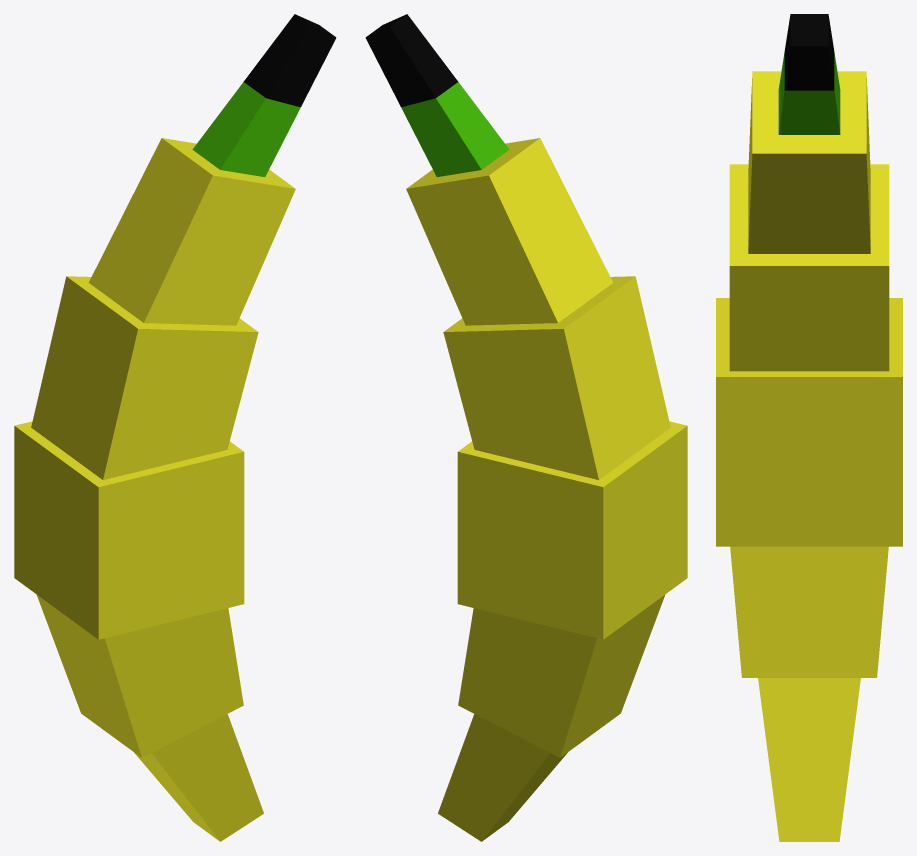
The model's file is Banana.fbx.
3 renders of one model, left to right at view 1: azimuth 30°, elevation 25°; view 2: azimuth 150°, elevation 25°; view 3: azimuth 270°, elevation 25°, orthographic. The views are drawn at different scales.
Parts seen in each view (by area): view 1: Cube; view 2: Cube; view 3: Cube.
Boxes of the visible parts, bbox=[...] form: Cube: bbox=[14, 14, 336, 841]; Cube: bbox=[365, 14, 687, 841]; Cube: bbox=[716, 14, 902, 841].
Bounding box in the file's own units: 373 × 1034 × 200.
